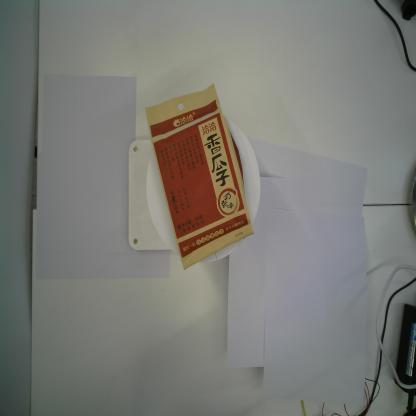Dried Food: (143, 83, 255, 272)
